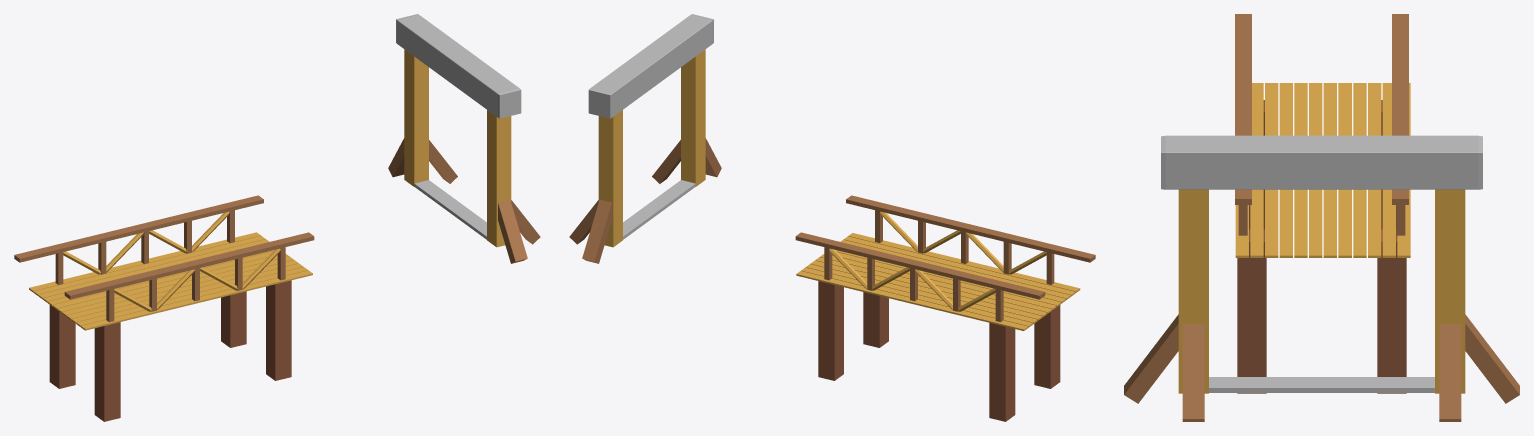
File: Bridge static.fbx
The picture shows the model from 3 angles, left to right: view 1: azimuth 30°, elevation 25°; view 2: azimuth 150°, elevation 25°; view 3: azimuth 270°, elevation 25°; orthographic projection. The views are drawn at different scales.
Visible parts, largest first — view 1: lever; view 2: lever; view 3: lever.
Boxes of the visible parts, x1,y1,x2,y2 form: lever: (14, 14, 540, 421); lever: (569, 14, 1095, 421); lever: (1124, 14, 1519, 421).
Size of the model in its own units: 1741 by 937 by 847.
